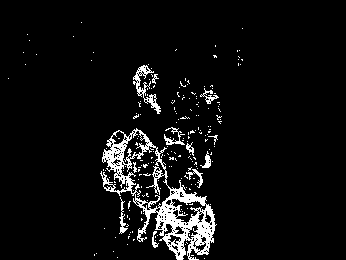person: (128, 130, 160, 245), (94, 132, 127, 237), (200, 82, 228, 171), (169, 76, 199, 143), (132, 60, 162, 121), (162, 128, 191, 188)
